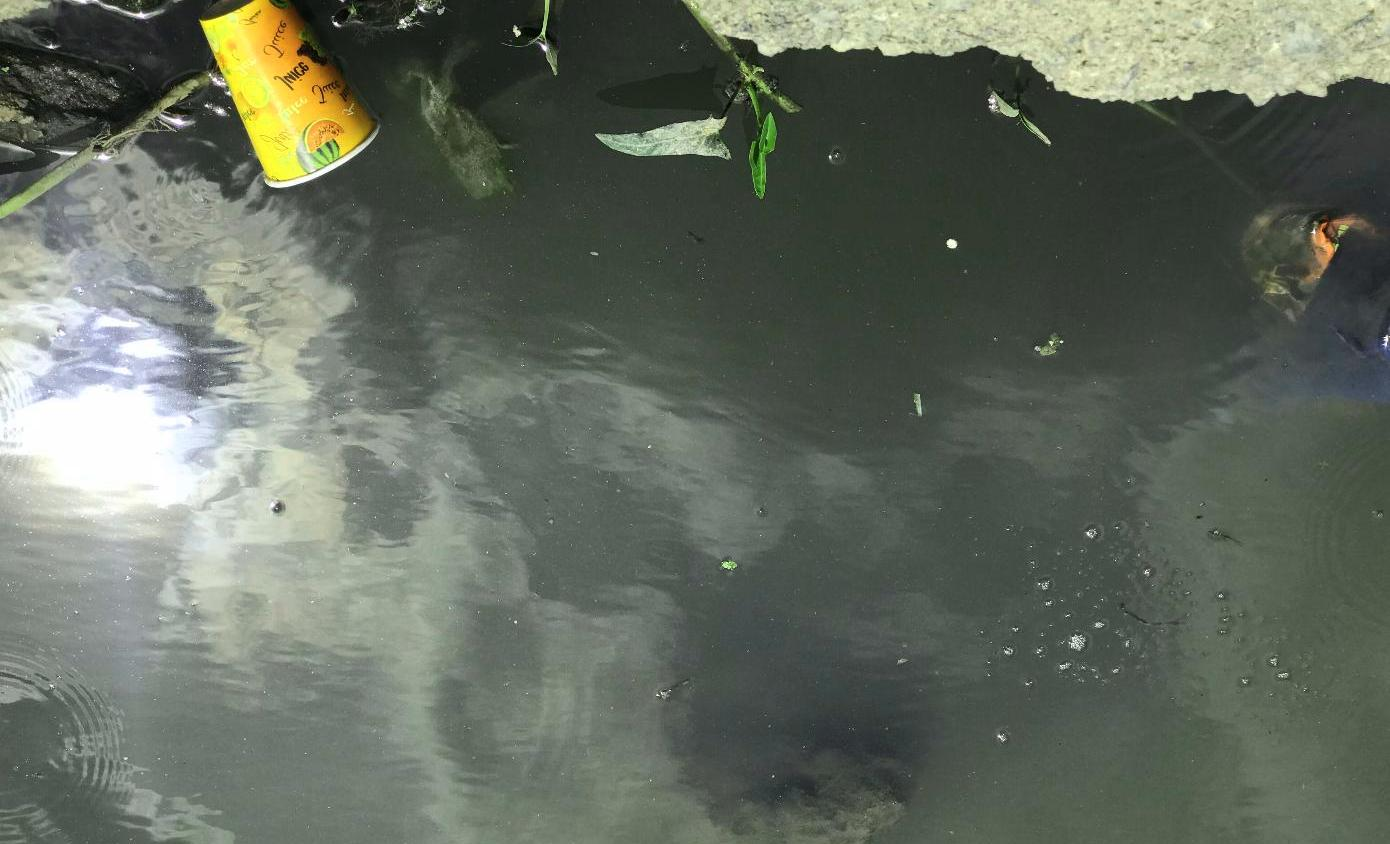Plastic: (199, 0, 379, 197)
Trash: (1240, 203, 1390, 359)
